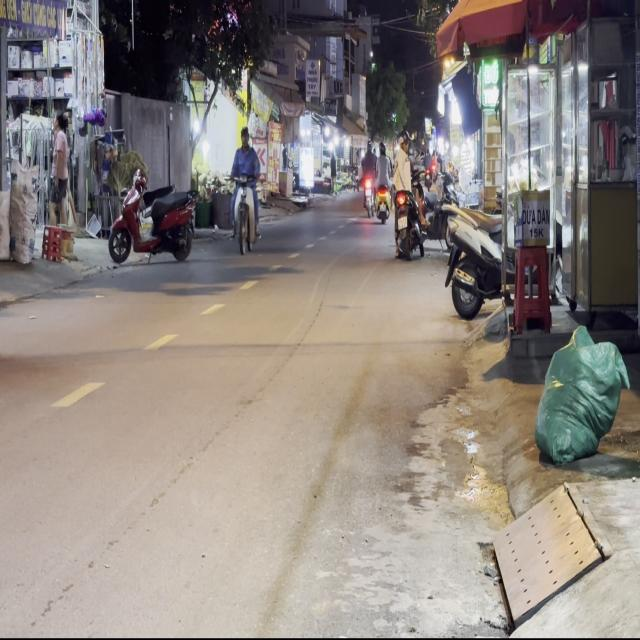helmet: (239, 125, 249, 146)
licenseplate: (227, 123, 262, 254)
